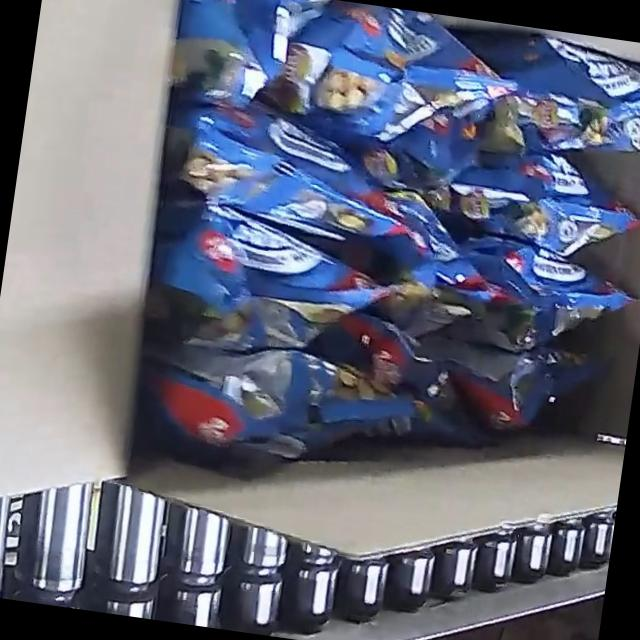paprika: (118, 0, 640, 510)
